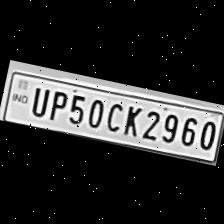0: (82, 92, 106, 128), (195, 114, 219, 150)
2: (136, 104, 162, 140)
5: (62, 88, 89, 125)
6: (174, 111, 200, 147)
9: (156, 107, 181, 143)
C: (101, 96, 126, 132)
K: (117, 100, 144, 136)
P: (42, 84, 68, 122)
U: (24, 81, 50, 117)
